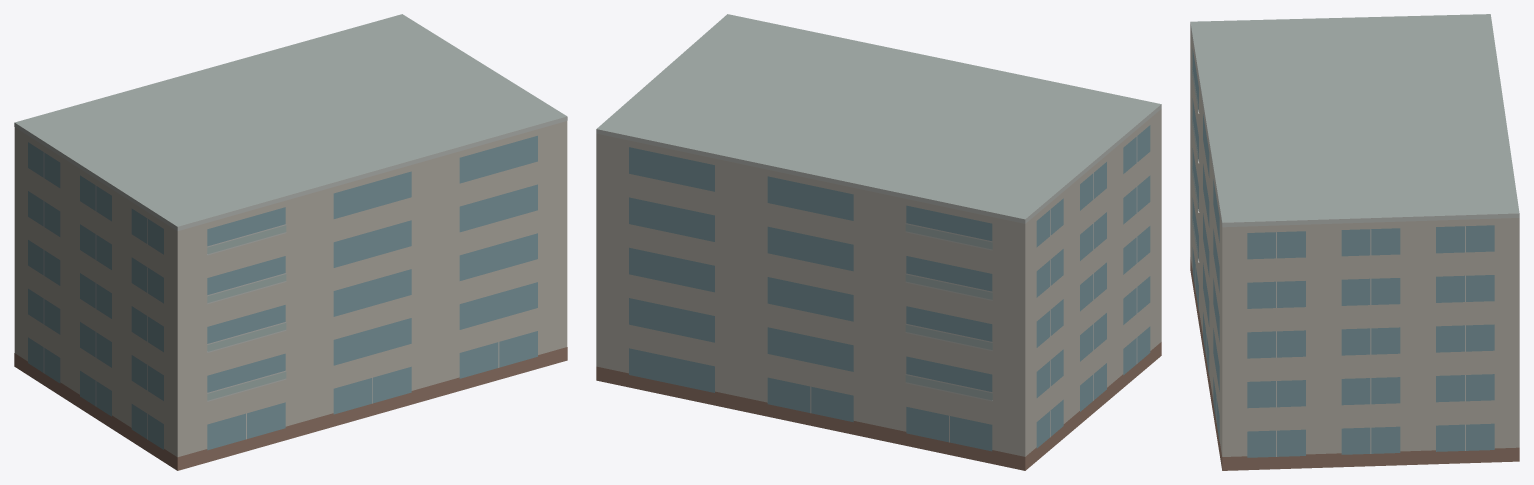
File: survey-upis-32737601.glb
3 views of the same model, side by side, from view 1: azimuth 30°, elevation 25°; view 2: azimuth 150°, elevation 25°; view 3: azimuth 270°, elevation 25° (orthographic). The views are drawn at different scales.
Parts seen in each view (by area): view 1: survey-upis-32737601.tmp; view 2: survey-upis-32737601.tmp; view 3: survey-upis-32737601.tmp.
Boxes of the visible parts, x1=… form: survey-upis-32737601.tmp: x1=14, y1=14, x2=567, y2=470; survey-upis-32737601.tmp: x1=596, y1=14, x2=1161, y2=470; survey-upis-32737601.tmp: x1=1190, y1=14, x2=1519, y2=470.
Size of the model in its own units: 24.56 by 13.6 by 16.37.
